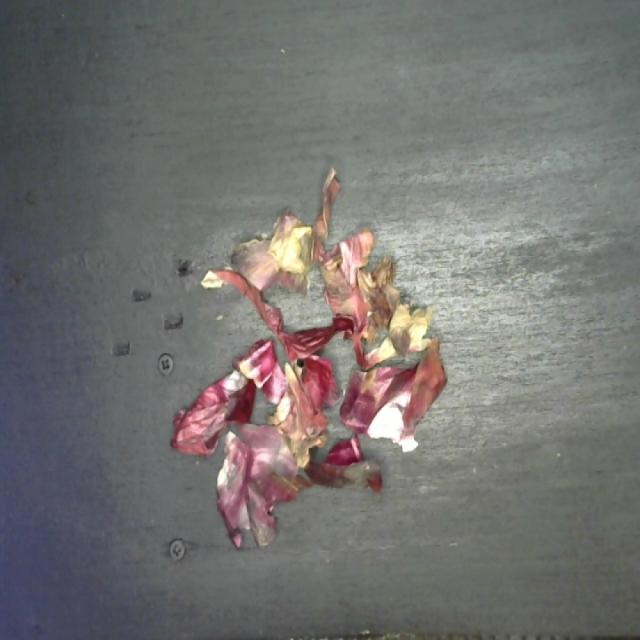biodegradable: (170, 161, 450, 557)
